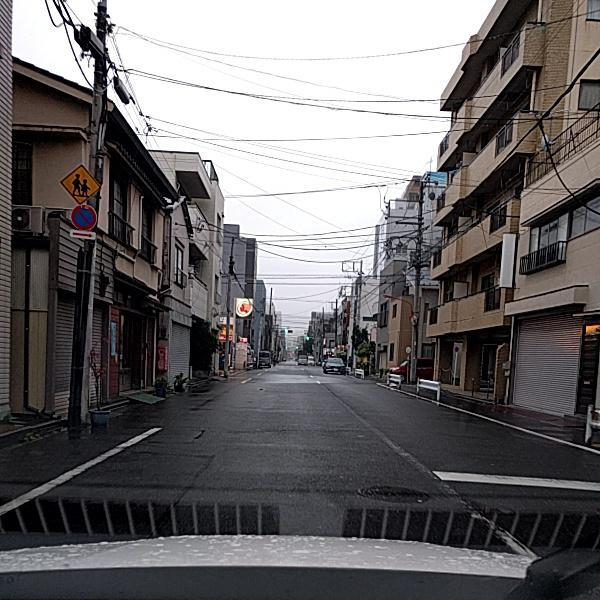D44: (331, 388, 528, 553)
D50: (353, 478, 430, 507)
